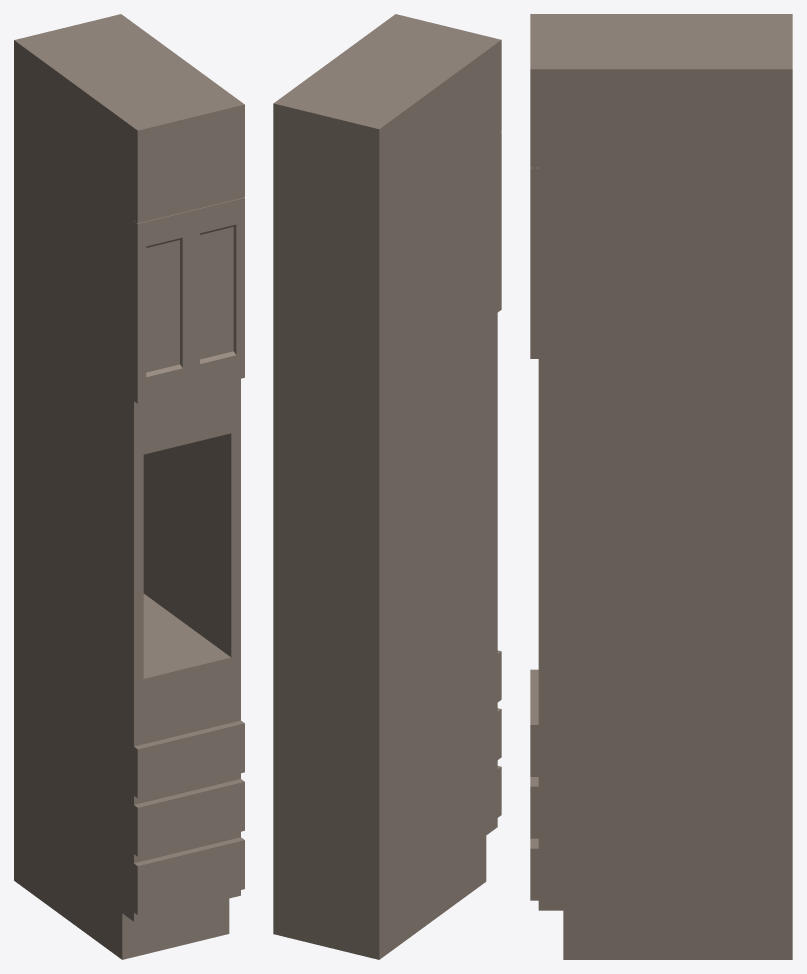
The model's file is Oven-Cabinet-24-Deep_std_001_W12in_1D.glb.
3 renders of one model, left to right at view 1: azimuth 30°, elevation 25°; view 2: azimuth 150°, elevation 25°; view 3: azimuth 270°, elevation 25°, orthographic. The views are drawn at different scales.
Visible parts, largest first — view 1: Oven-Cabinet-24-Deep.std.001_W12in_1D; view 2: Oven-Cabinet-24-Deep.std.001_W12in_1D; view 3: Oven-Cabinet-24-Deep.std.001_W12in_1D.
Part boxes in pixels (x1,y1,x2,y2): Oven-Cabinet-24-Deep.std.001_W12in_1D: (14,14,244,959); Oven-Cabinet-24-Deep.std.001_W12in_1D: (273,14,501,959); Oven-Cabinet-24-Deep.std.001_W12in_1D: (530,14,792,959).
Bounding box in the file's own units: 0.3048 × 2.29 × 0.6096.
